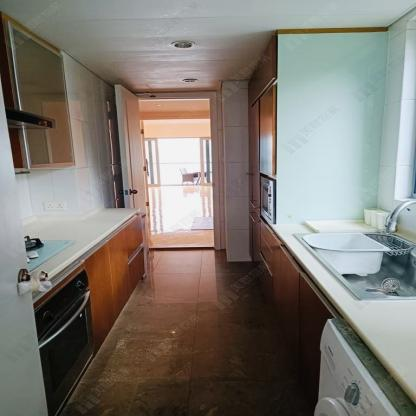Cupboard: (81, 218, 151, 347)
Exhaust Hood: (4, 110, 60, 133)
Microwave: (259, 174, 274, 223)
Oven: (30, 262, 101, 416)
Sink: (302, 230, 415, 306)
